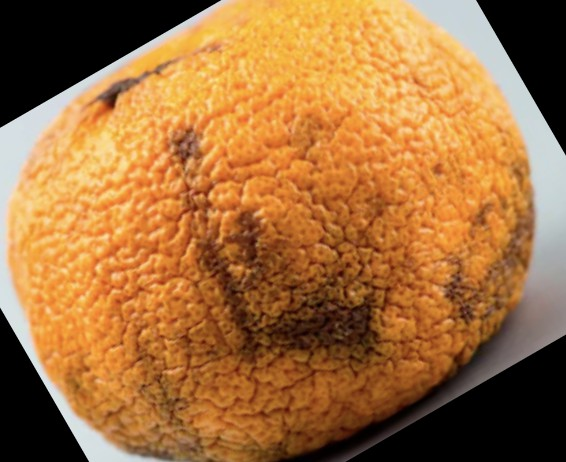rotten_orange: (8, 1, 536, 462)
